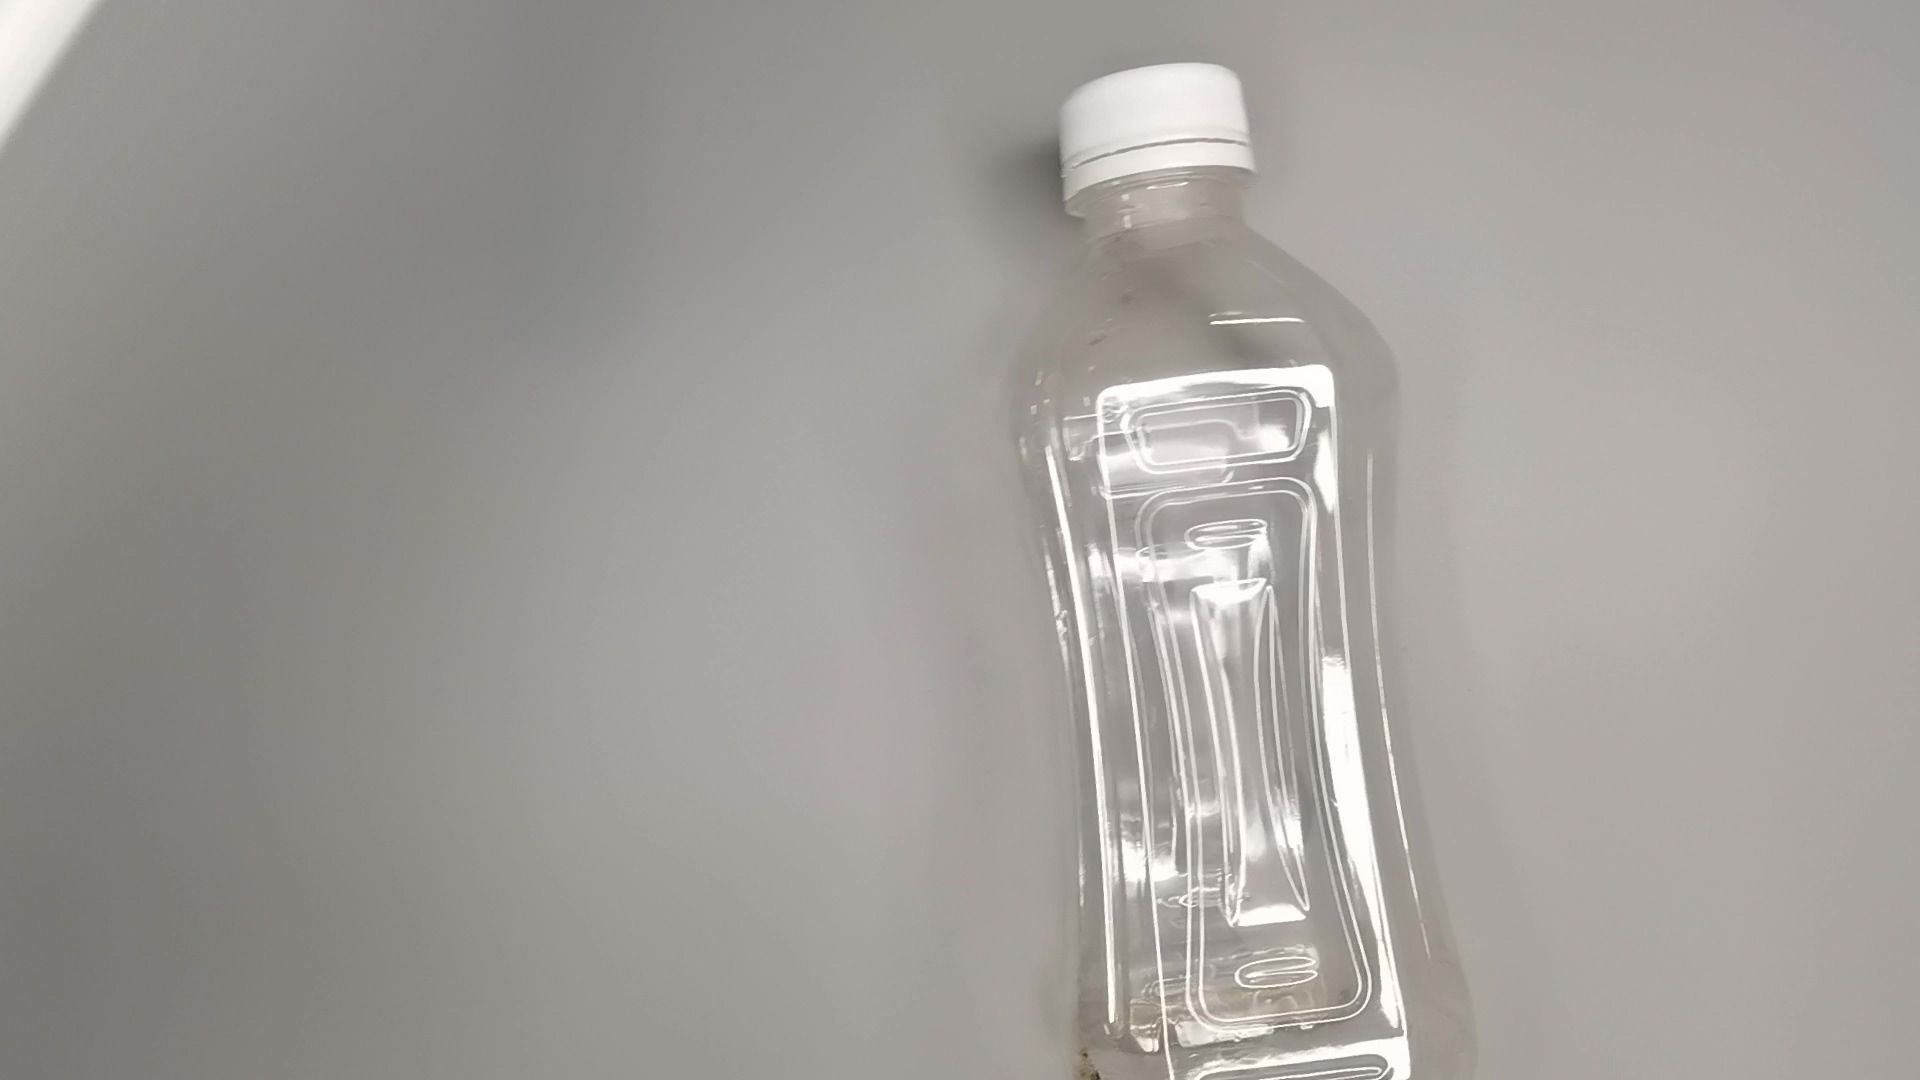bottle: (988, 53, 1489, 1080)
